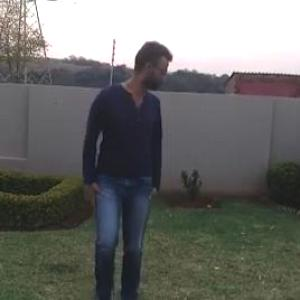follow: (80, 29, 170, 296)
